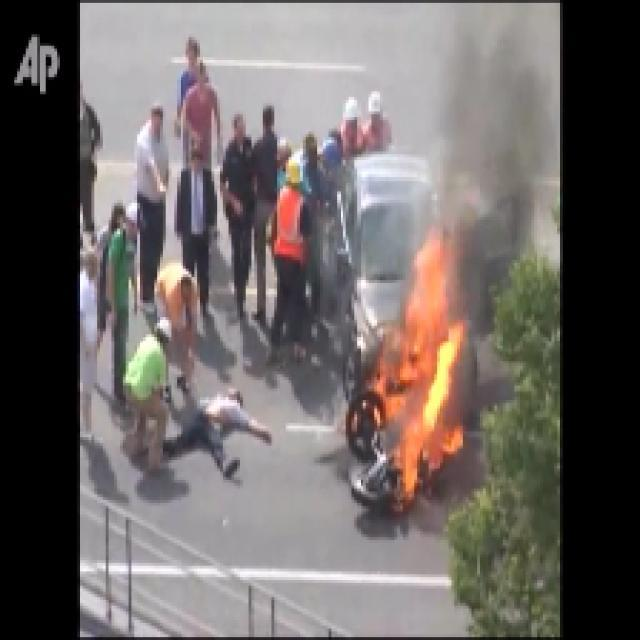Fire: (360, 234, 466, 497)
Smoke: (422, 3, 554, 234)
